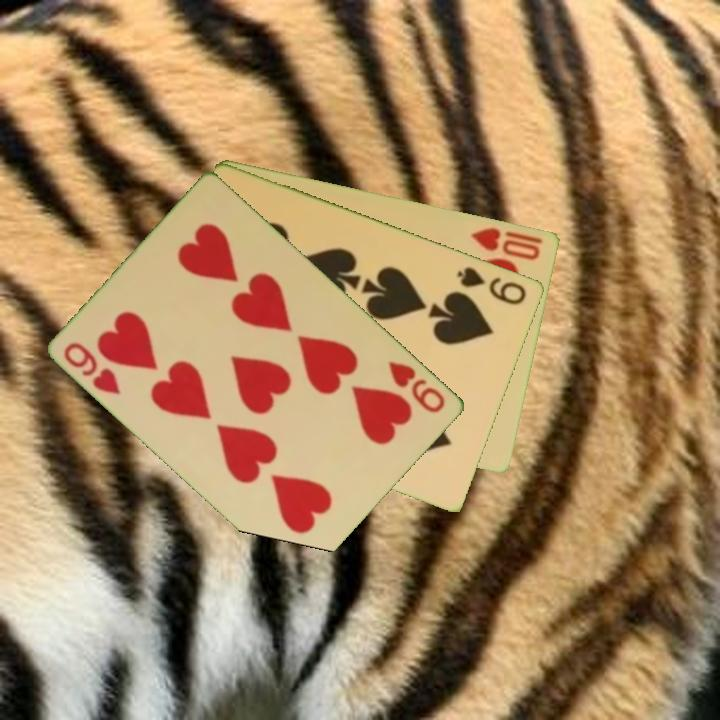10h: (468, 223, 544, 263)
9h: (60, 338, 124, 398), (385, 357, 449, 416)
9s: (453, 262, 530, 308)
